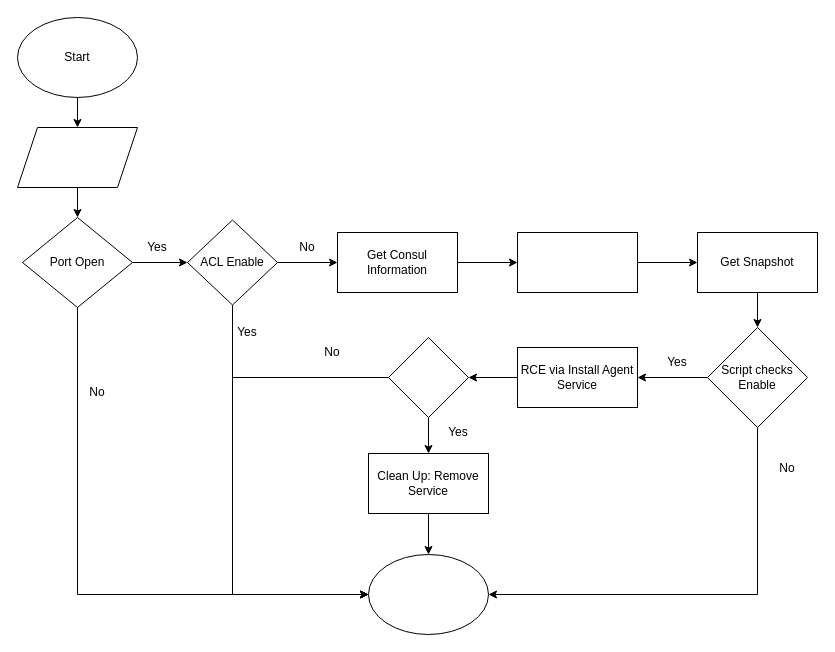
Some shapes in this 835 by 652 pixel diagram are drawn without their labels. Each missing label, with the box of its shape:
Dump Stored Key/Value (KV): (516, 232, 638, 292)
End: (368, 554, 488, 634)
IP Address: (16, 126, 138, 188)
Success: (388, 336, 468, 418)
